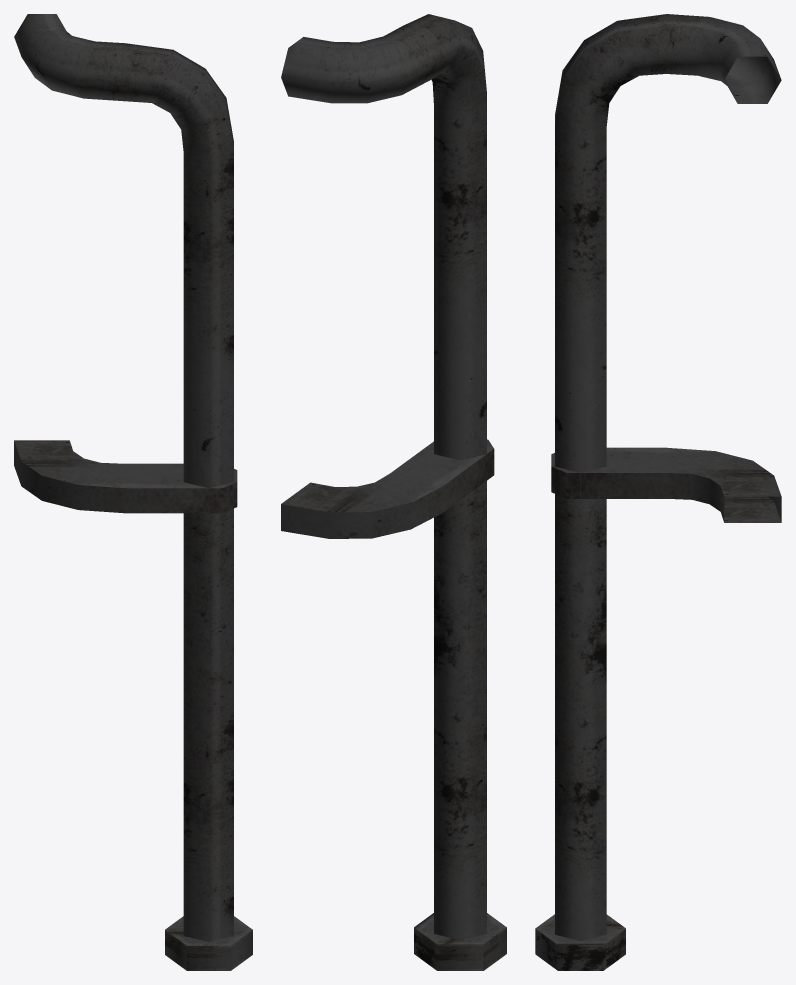
Rendered from cs_handrail_90_right_lod0.glb.
3 renders of one model, left to right at view 1: azimuth 90°, elevation 25°; view 2: azimuth 150°, elevation 25°; view 3: azimuth 270°, elevation 25°, orthographic. The views are drawn at different scales.
Visible parts, largest first — view 1: surf0; view 2: surf0; view 3: surf0.
Part boxes in pixels (bbox=[...]): surf0: bbox=[14, 14, 252, 970]; surf0: bbox=[281, 14, 506, 970]; surf0: bbox=[535, 14, 781, 970].
Size of the model in its own units: 4.37 by 35.91 by 8.58.
